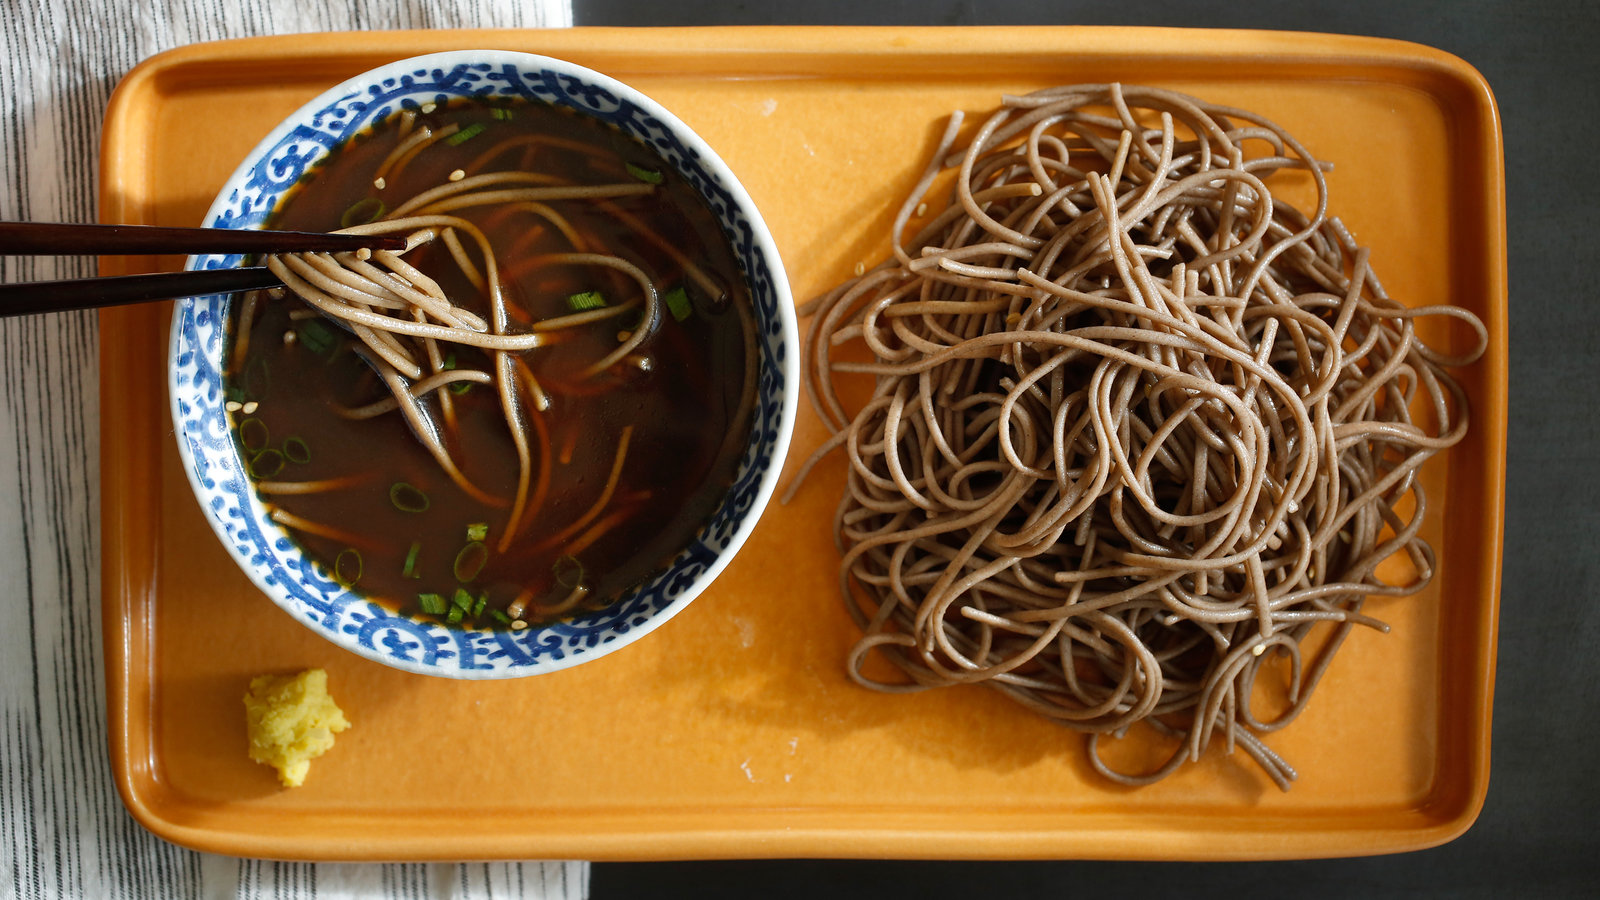Soba: (844, 84, 1455, 795), (303, 126, 703, 520)
